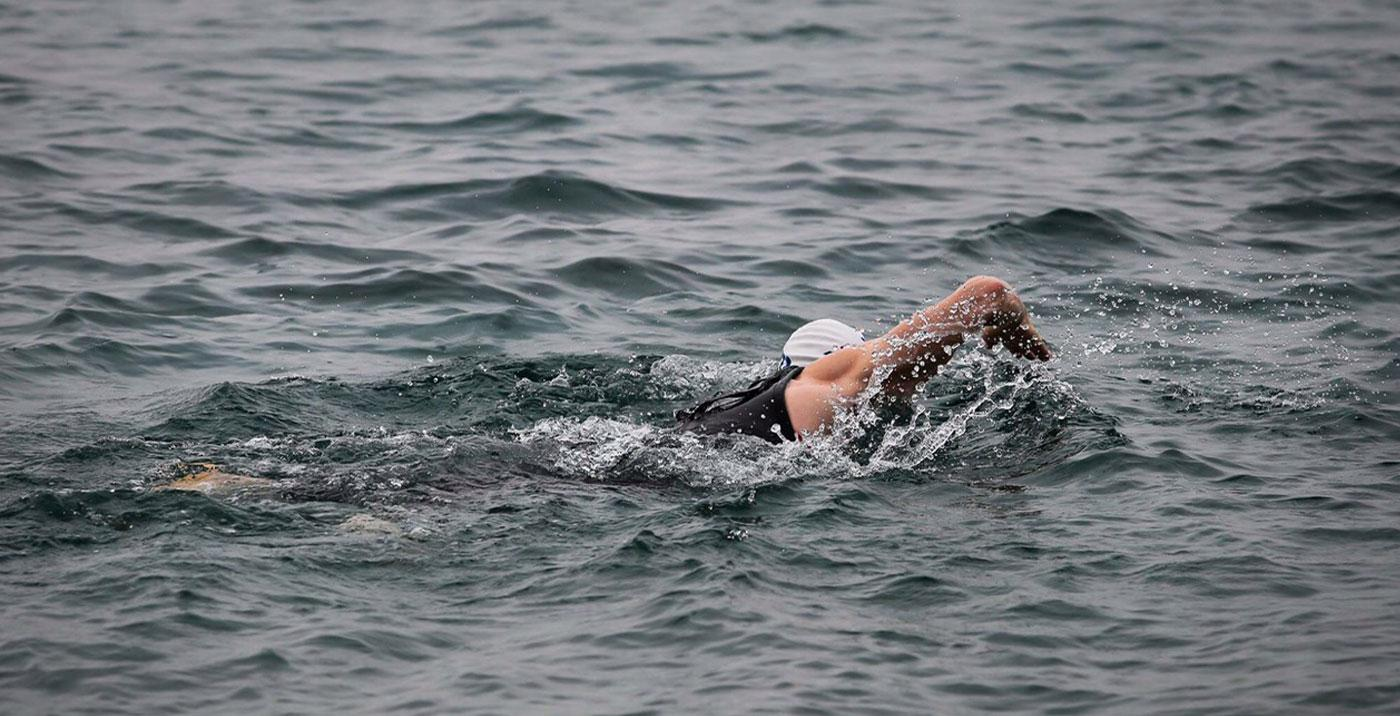swimmer: (645, 271, 1061, 474)
